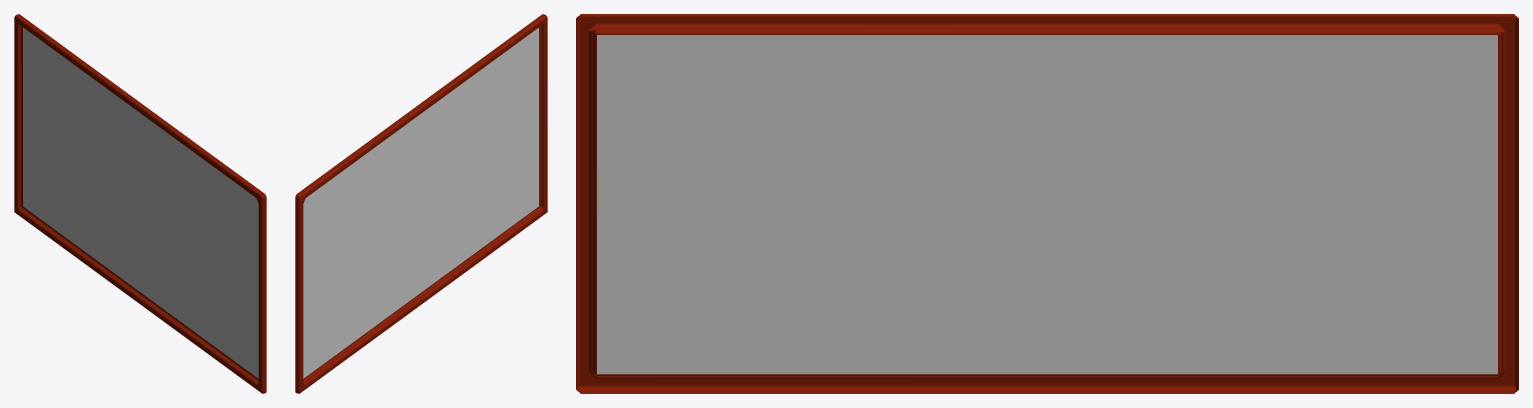
File: wall_mirror.fbx
3 views of the same model, side by side, from view 1: azimuth 30°, elevation 25°; view 2: azimuth 150°, elevation 25°; view 3: azimuth 270°, elevation 25° (orthographic). The views are drawn at different scales.
Parts seen in each view (by area): view 1: Plane.019; view 2: Plane.019; view 3: Plane.019.
Part boxes in pixels (left/top/right/bottom): Plane.019: left=14, top=14, right=266, bottom=393; Plane.019: left=295, top=14, right=547, bottom=393; Plane.019: left=576, top=14, right=1518, bottom=393.
Size of the model in its own units: 7.3 by 274 by 621.
